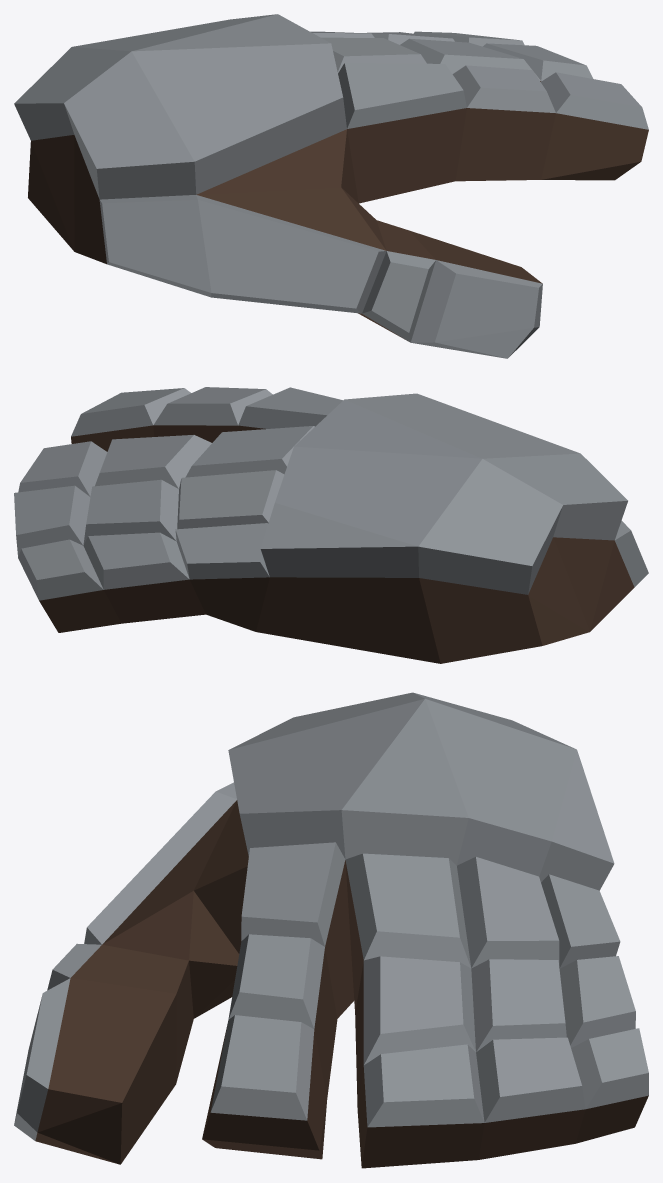
Rendered from Chr_HandLeft_Female_14_Static.fbx.
3 renders of one model, top to bottom at view 1: azimuth 30°, elevation 25°; view 2: azimuth 150°, elevation 25°; view 3: azimuth 270°, elevation 25°, orthographic. The views are drawn at different scales.
Visible parts, largest first — view 1: Chr_HandLeft_Female_14_Static; view 2: Chr_HandLeft_Female_14_Static; view 3: Chr_HandLeft_Female_14_Static.
Part boxes in pixels (bbox=[...]): Chr_HandLeft_Female_14_Static: bbox=[14, 14, 648, 358]; Chr_HandLeft_Female_14_Static: bbox=[14, 387, 648, 663]; Chr_HandLeft_Female_14_Static: bbox=[14, 692, 648, 1168].
Bounding box in the file's own units: 0.2362 × 0.1111 × 0.1945.
